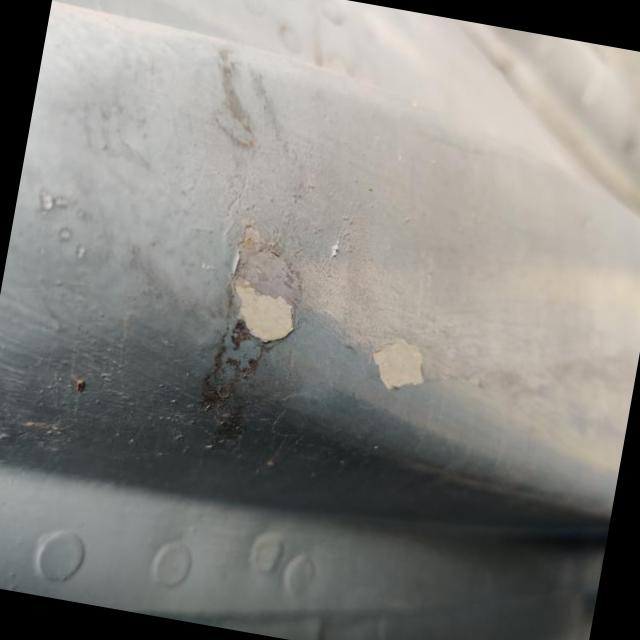Paint-off: (228, 273, 300, 353), (370, 335, 446, 393)
